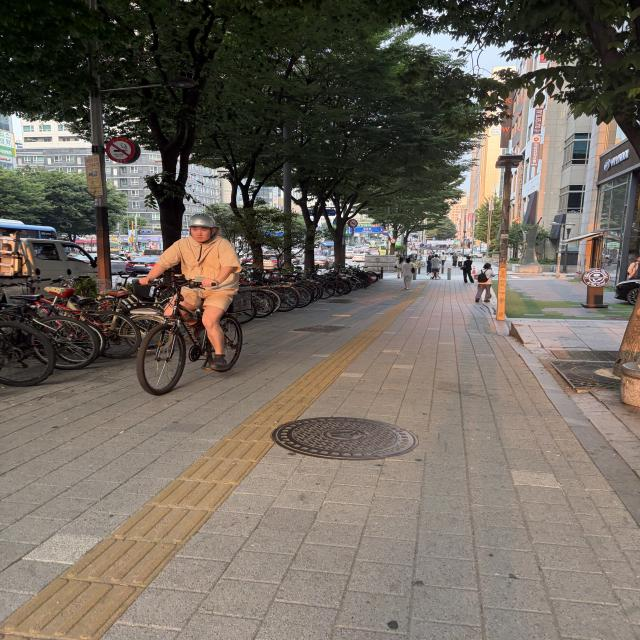bicycle: (122, 242, 272, 397)
